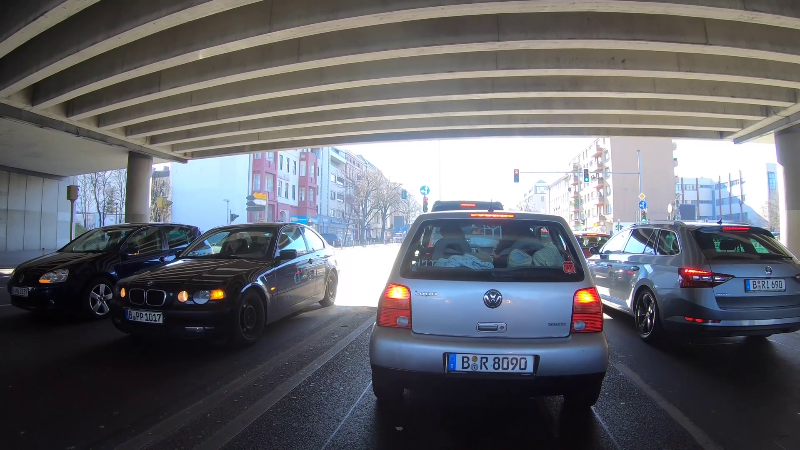Plate: (442, 347, 540, 376), (743, 276, 788, 291), (123, 309, 164, 324), (9, 286, 29, 296)
